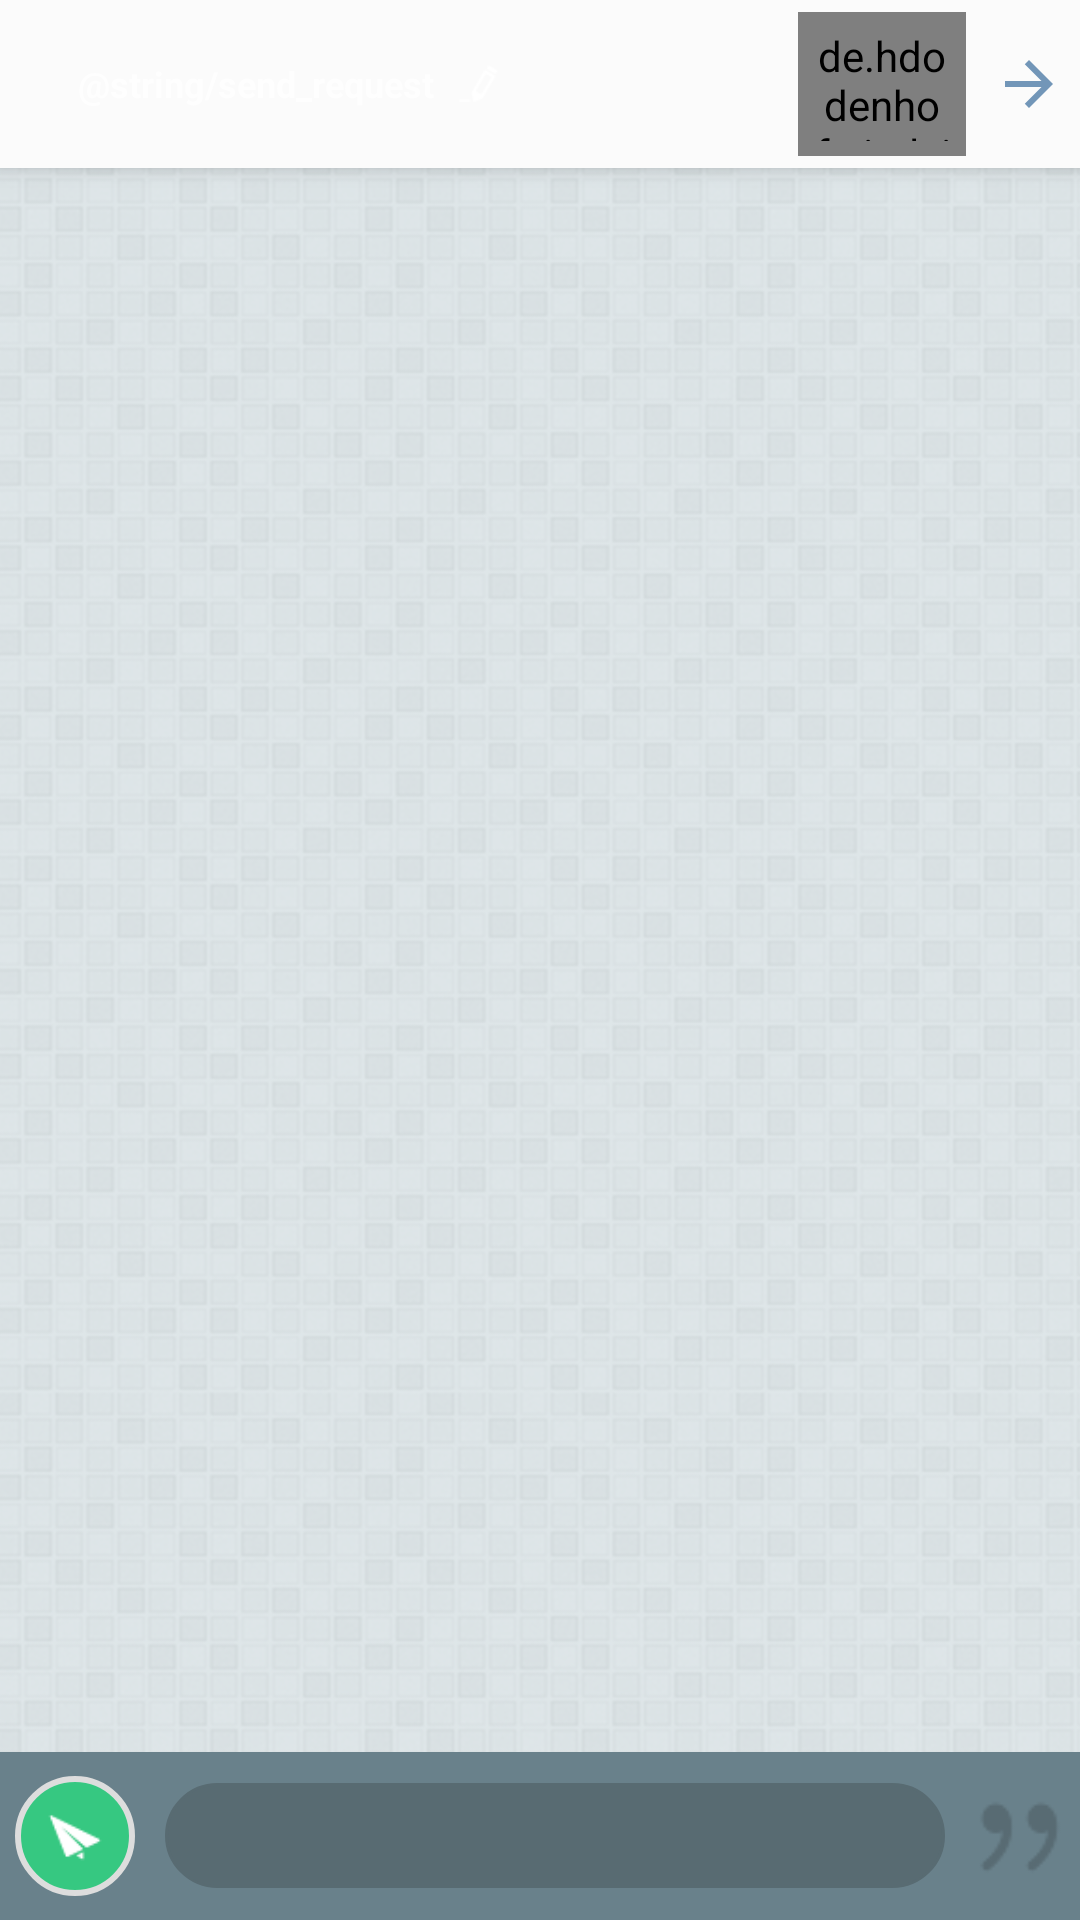

Icons on this 1080*1920 Android screen, each with the point to tap as [x,y]:
chat send: [75,1836]
